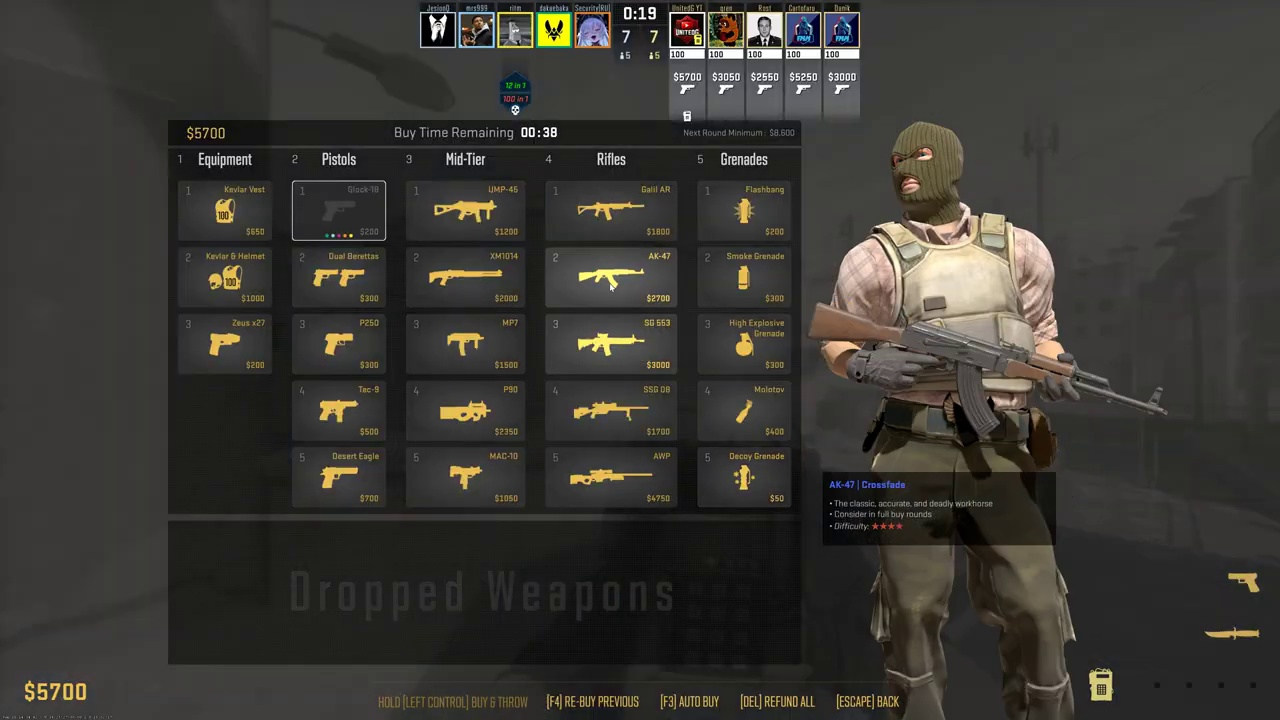Terrorist: (827, 120, 1075, 720)
